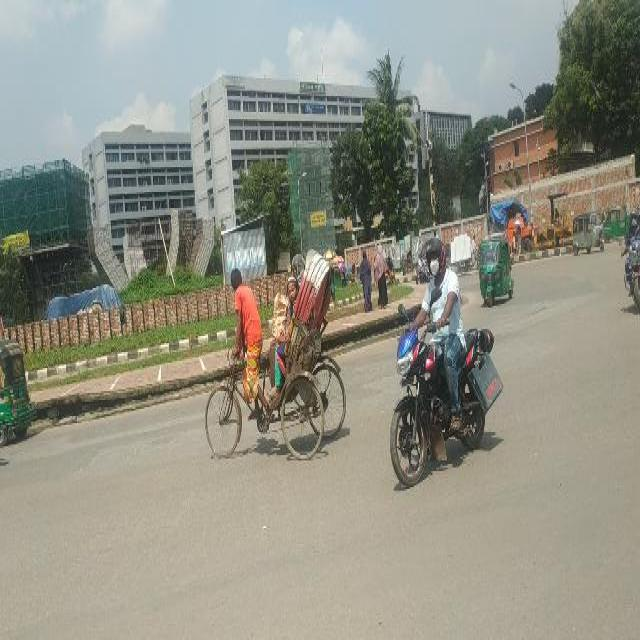motorbike: (390, 303, 496, 490), (627, 210, 639, 306)
rickshaw: (204, 246, 346, 470), (400, 248, 414, 275), (347, 262, 358, 286)
three wheelers -CNG-: (1, 335, 36, 451), (477, 236, 513, 308), (570, 208, 604, 254), (601, 203, 627, 244)
